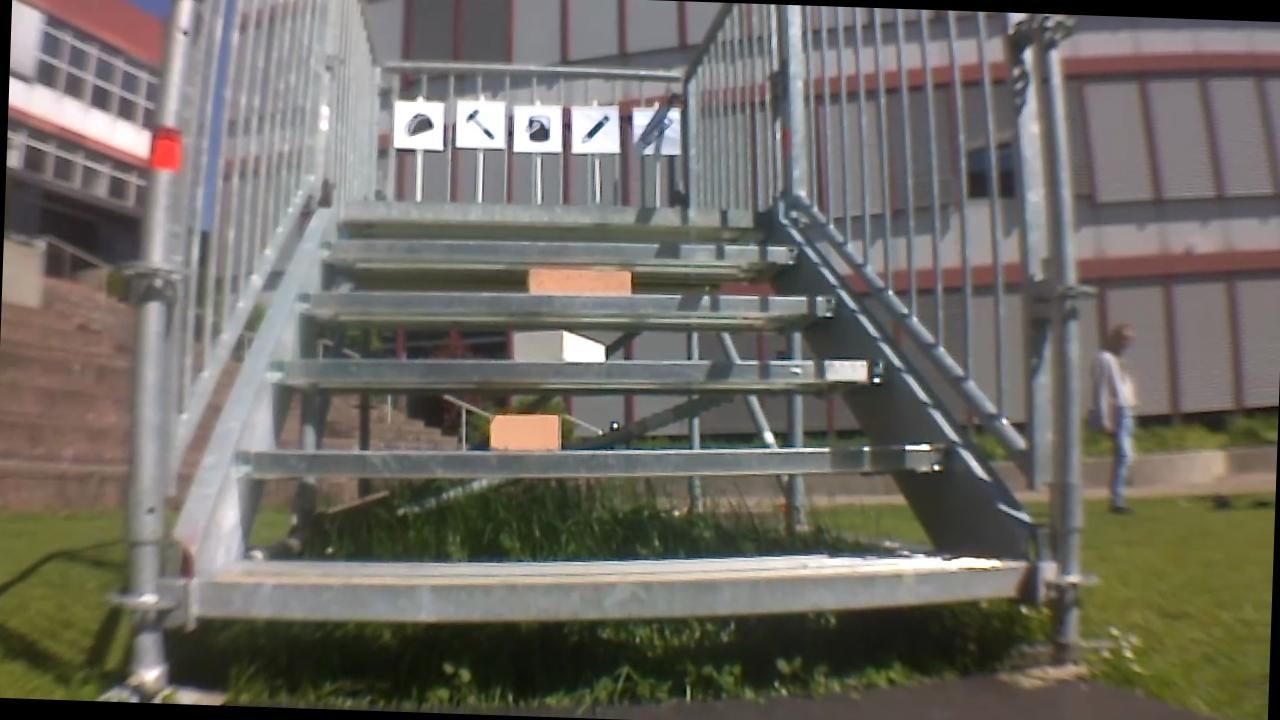brick: (502, 330, 610, 368), (483, 409, 564, 455), (531, 263, 633, 295)
edge: (189, 530, 1051, 659), (222, 417, 945, 511), (269, 337, 889, 408), (282, 279, 838, 339), (326, 231, 803, 277), (338, 193, 771, 239)
steps: (170, 179, 1038, 661)
